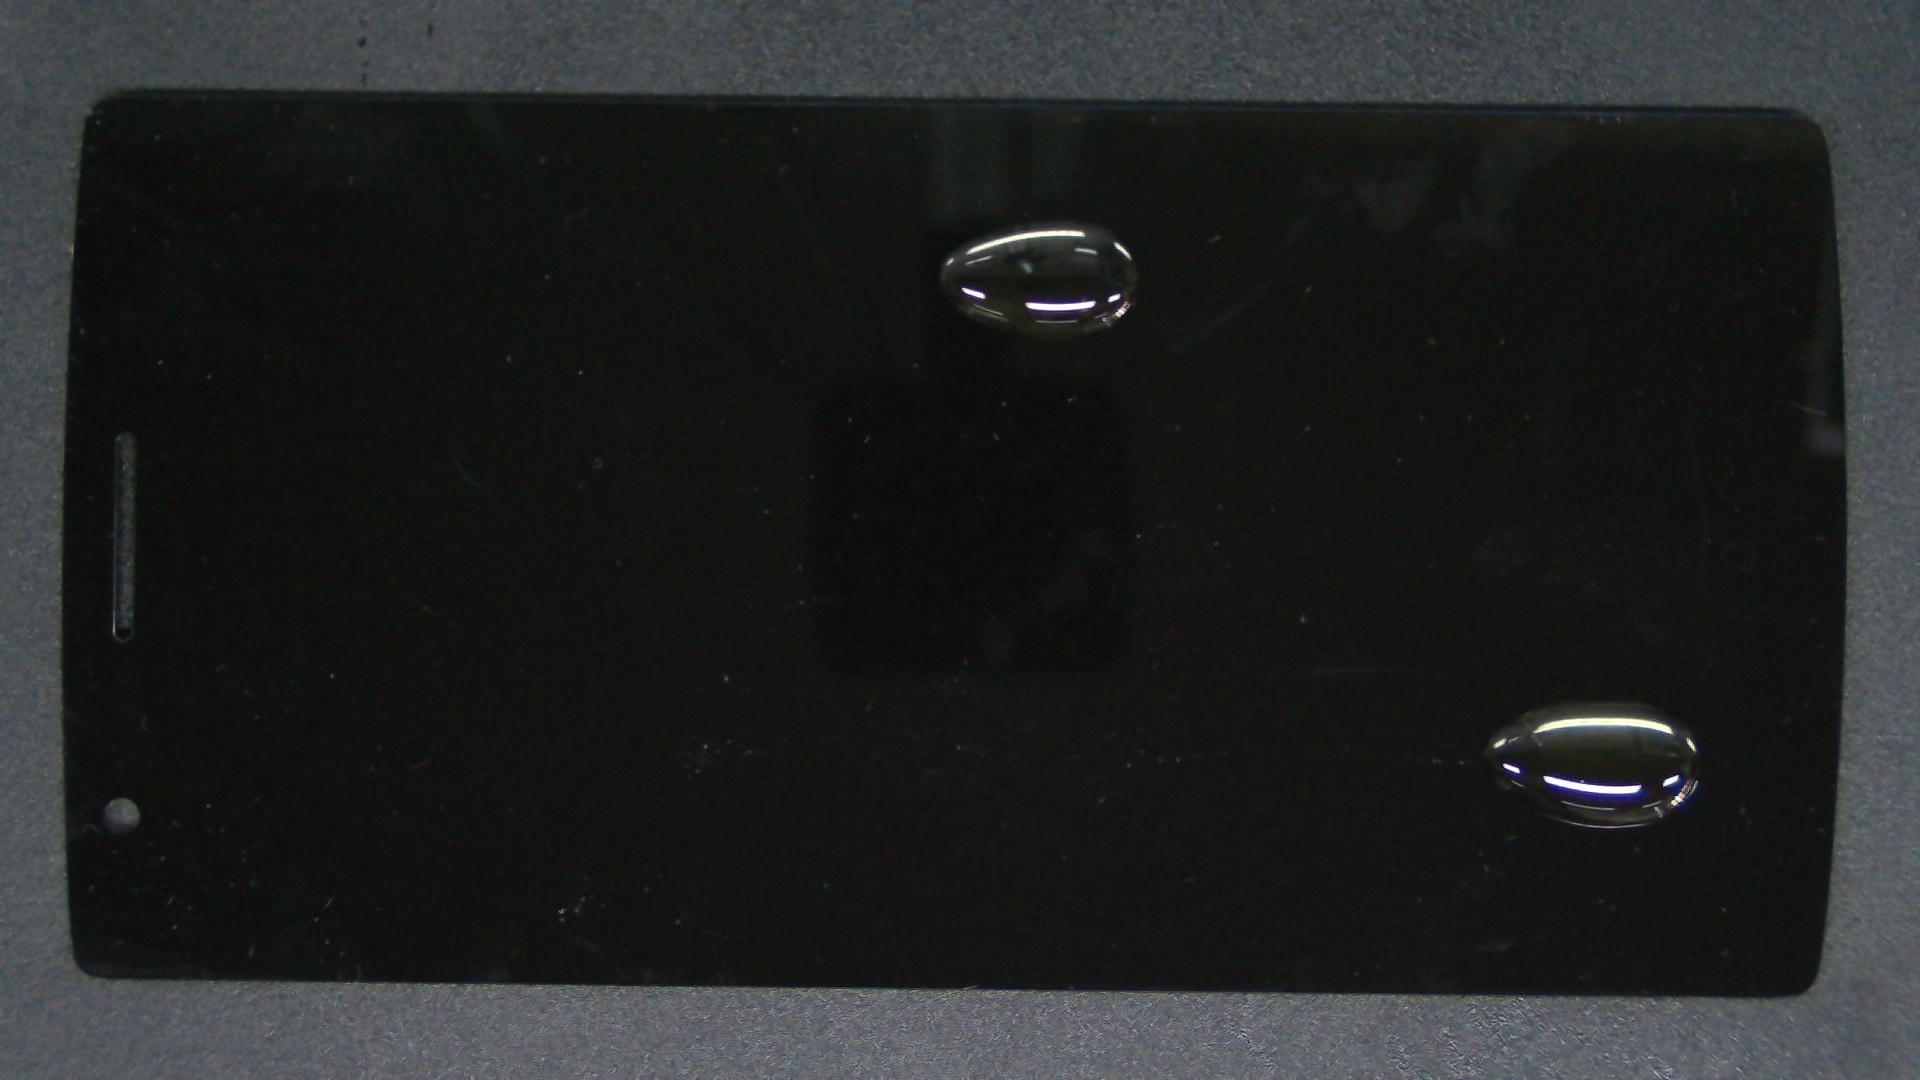oil: (783, 349, 1920, 1052), (525, 109, 1572, 332)
